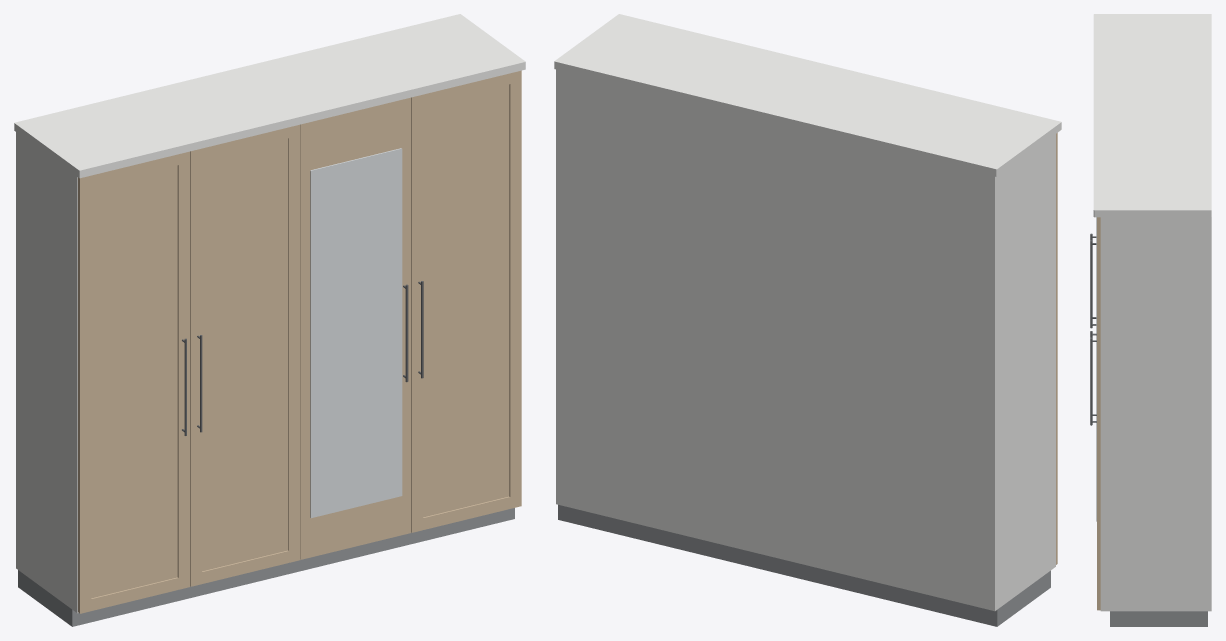
3 views of the same model, side by side, from view 1: azimuth 30°, elevation 25°; view 2: azimuth 150°, elevation 25°; view 3: azimuth 270°, elevation 25° (orthographic). The views are drawn at different scales.
Parts seen in each view (by area): view 1: Tủ áo cánh mở Chiều rộng=2400; Chiều sâu=600; view 2: Tủ áo cánh mở Chiều rộng=2400; Chiều sâu=600; view 3: Tủ áo cánh mở Chiều rộng=2400; Chiều sâu=600.
Boxes of the visible parts, x1,y1,x2,y2 form: Tủ áo cánh mở Chiều rộng=2400; Chiều sâu=600: (14, 14, 525, 626); Tủ áo cánh mở Chiều rộng=2400; Chiều sâu=600: (554, 14, 1061, 626); Tủ áo cánh mở Chiều rộng=2400; Chiều sâu=600: (1090, 14, 1211, 626).
Size of the model in its own units: 2.42 by 2.4 by 0.633.
